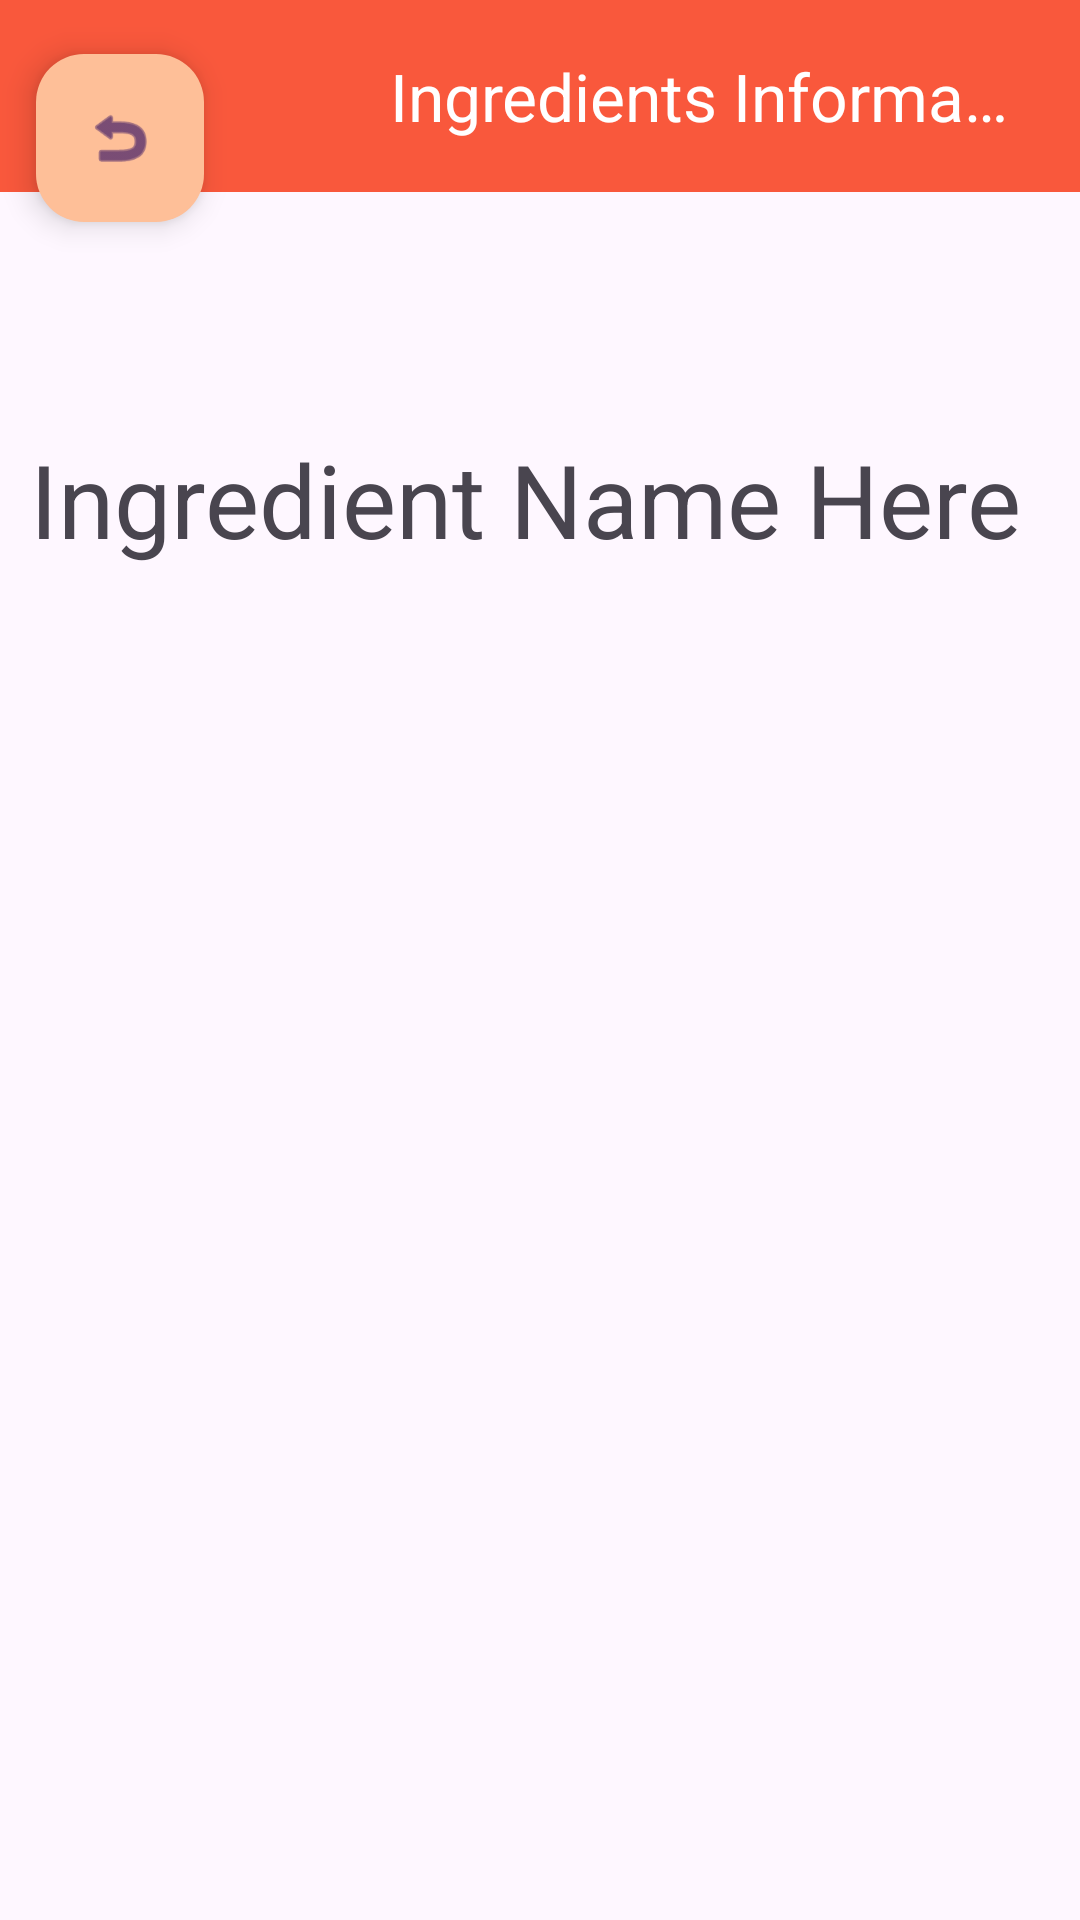

Icons on this 1080px x 1920px Android screen, each with the point to tap as point (x, y):
Return to previous screen: point (120, 111)
